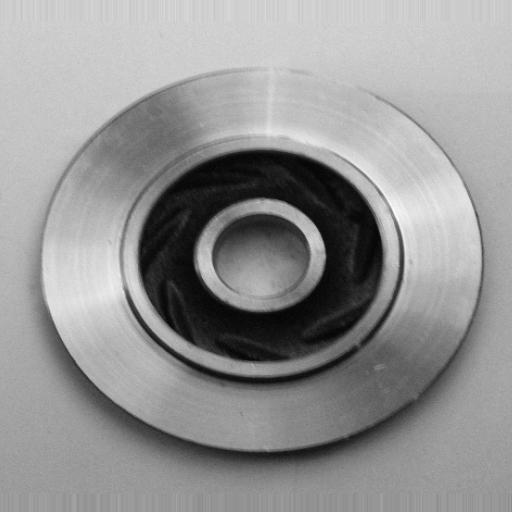unpolished_casting: (38, 62, 484, 457)
